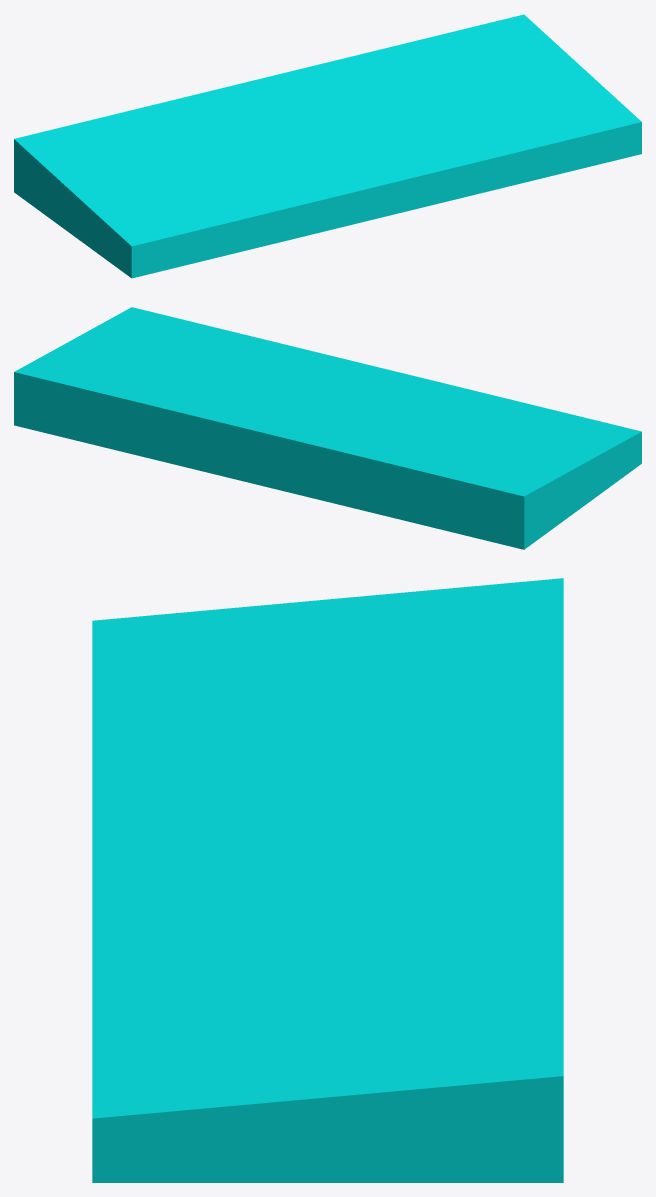
File: SM_KeyBoard.fbx
3 renders of one model, top to bottom at view 1: azimuth 30°, elevation 25°; view 2: azimuth 150°, elevation 25°; view 3: azimuth 270°, elevation 25°, orthographic. The views are drawn at different scales.
Parts seen in each view (by area): view 1: SM_KeyBoard_low; view 2: SM_KeyBoard_low; view 3: SM_KeyBoard_low.
Part boxes in pixels (bbox=[...]): SM_KeyBoard_low: bbox=[14, 14, 641, 278]; SM_KeyBoard_low: bbox=[14, 307, 641, 549]; SM_KeyBoard_low: bbox=[92, 578, 563, 1182].
Bounding box in the file's own units: 50 × 5 × 20.
